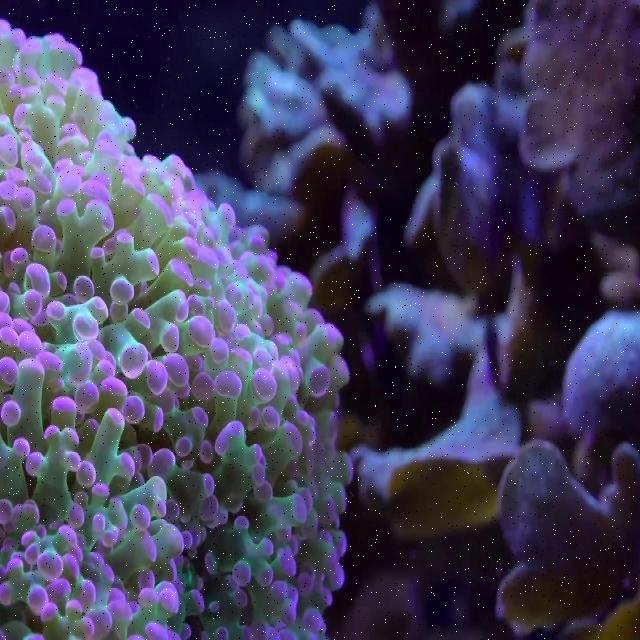reefs: (0, 17, 355, 639)
